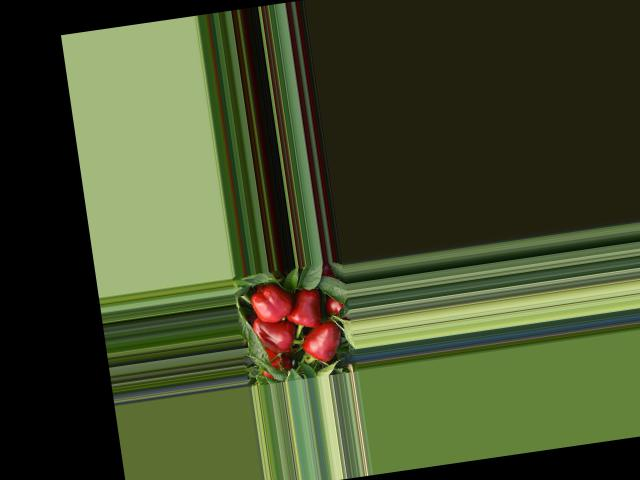bell_pepper: (245, 281, 303, 326)
